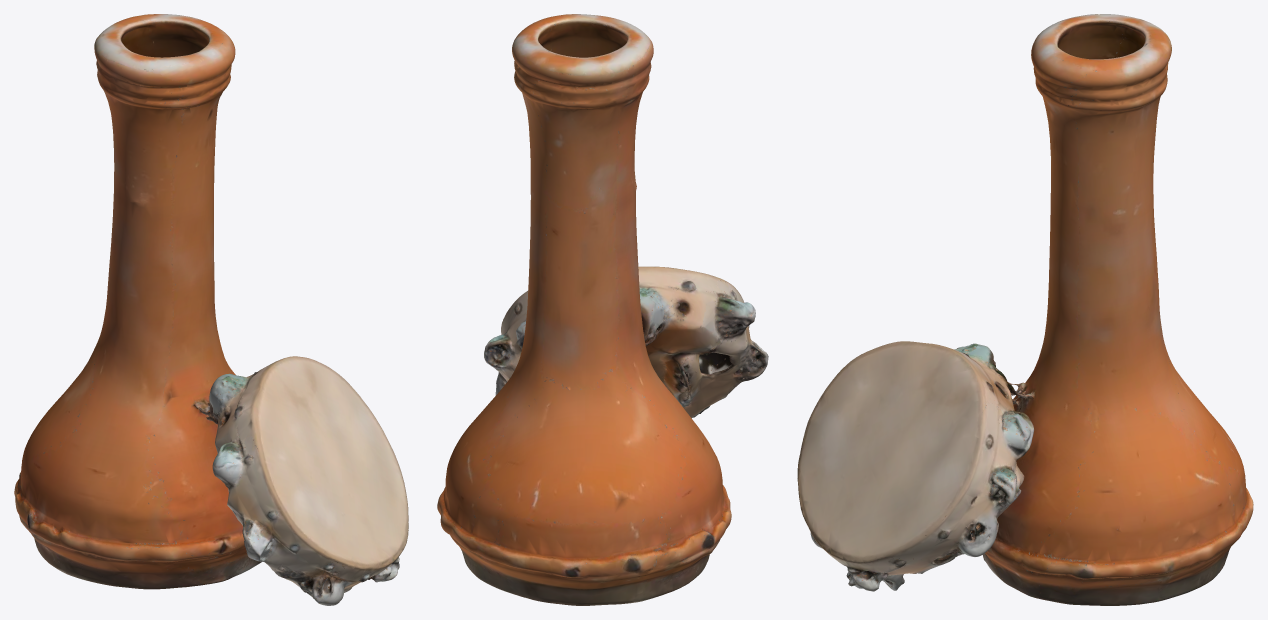
File: tumbaknari.glb
3 views of the same model, side by side, from view 1: azimuth 30°, elevation 25°; view 2: azimuth 150°, elevation 25°; view 3: azimuth 270°, elevation 25° (orthographic). The views are drawn at different scales.
Bounding box in the file's own units: 1.18 × 2 × 1.59.
Materials: 1 (1 with a texture image).
